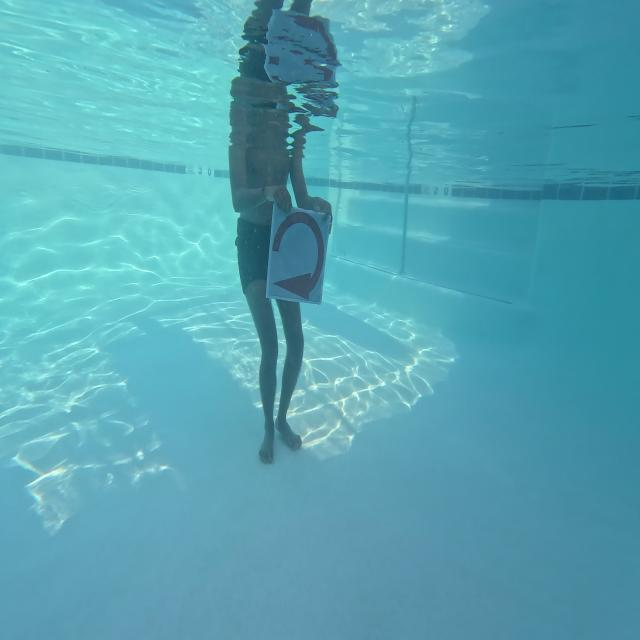red_side: (267, 204, 329, 306)
